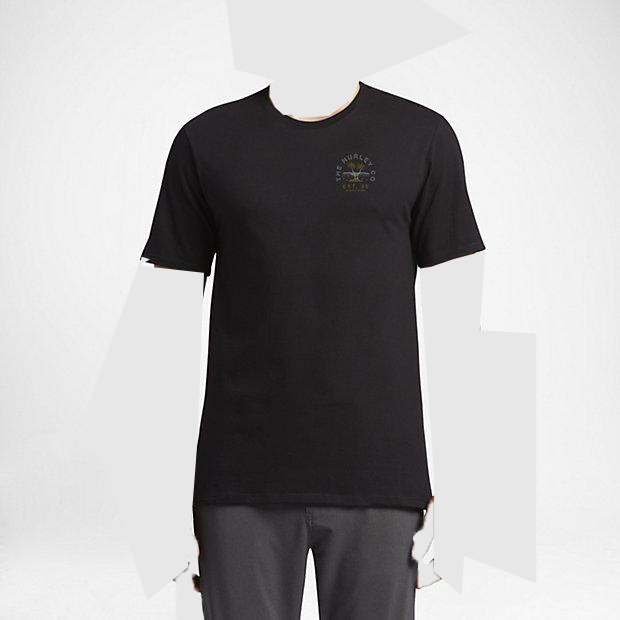teeshirt: (134, 72, 487, 523)
